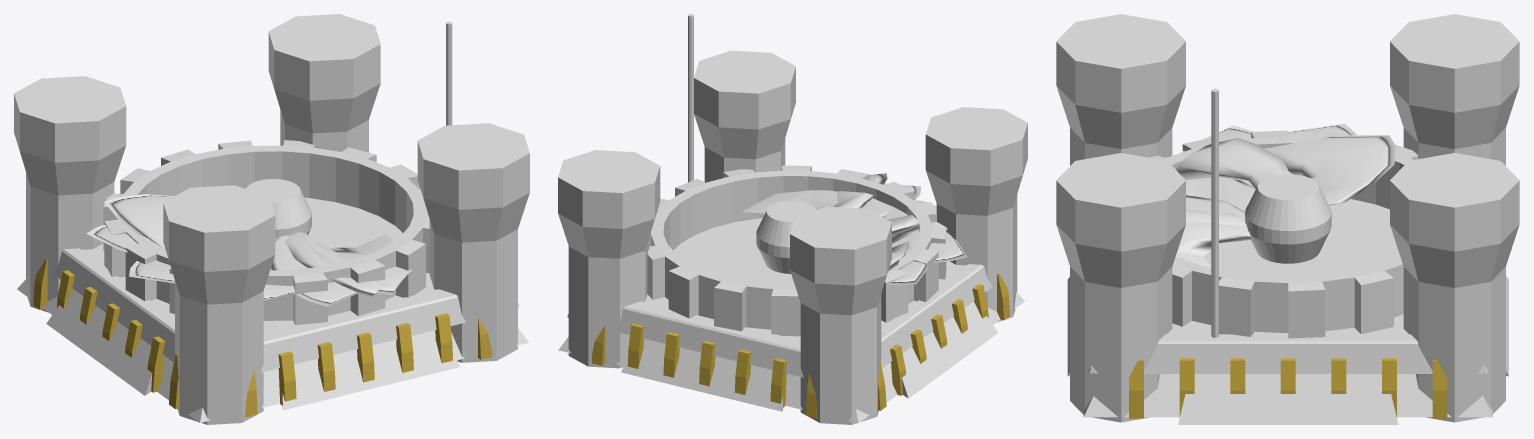
File: CPUFBX.fbx
3 renders of one model, left to right at view 1: azimuth 30°, elevation 25°; view 2: azimuth 150°, elevation 25°; view 3: azimuth 270°, elevation 25°, orthographic. The views are drawn at different scales.
Visible parts, largest first — view 1: Chip, FanAssembly, castle.003, castle.002, castle.000, castle.001, FanPivot, Blade.007, Blade.003, Blade.004, Blade.006, Cube.023 (+9 smaller); view 2: Chip, FanAssembly, castle.000, castle.001, castle.003, castle.002, FanPivot, Blade.003, antenna, Blade.005, Blade.004, Cube.017 (+9 smaller); view 3: Chip, castle.001, castle.002, FanAssembly, castle.003, castle.000, FanPivot, Blade.007, Blade.001, antenna, Blade.003, Blade (+11 smaller).
Part boxes in pixels (box(x1,y1,x2,y2)): Chip: box(17, 197, 529, 422); FanAssembly: box(103, 140, 429, 325); castle.003: box(163, 185, 275, 424); castle.002: box(417, 123, 529, 362); castle.000: box(14, 76, 126, 312); castle.001: box(268, 14, 380, 152); FanPivot: box(246, 179, 311, 237); Blade.007: box(104, 194, 173, 248); Blade.003: box(301, 232, 411, 294); Blade.004: box(285, 232, 385, 296); Blade.006: box(271, 235, 374, 306); Cube.023: box(278, 351, 296, 405); Chip: box(558, 218, 1024, 423); FanAssembly: box(647, 165, 946, 336); castle.000: box(790, 206, 891, 424); castle.001: box(558, 150, 660, 368); castle.003: box(925, 107, 1027, 322); castle.002: box(694, 50, 795, 182); FanPivot: box(756, 201, 816, 273); Blade.003: box(742, 190, 838, 213); antenna: box(688, 14, 693, 182); Blade.005: box(892, 225, 967, 262); Blade.004: box(833, 173, 887, 208); Cube.017: box(770, 358, 786, 407); Chip: box(1067, 199, 1508, 424); castle.001: box(1390, 153, 1519, 422); castle.002: box(1056, 153, 1185, 422); FanAssembly: box(1149, 130, 1418, 338); castle.003: box(1056, 14, 1185, 165); castle.000: box(1390, 14, 1519, 165); FanPivot: box(1245, 174, 1331, 263); Blade.007: box(1266, 135, 1395, 205); Blade.001: box(1176, 137, 1290, 188); antenna: box(1211, 88, 1218, 337); Blade.003: box(1176, 222, 1252, 267); Blade: box(1166, 157, 1255, 212).
Size of the model in its own units: 455 by 349 by 458.
